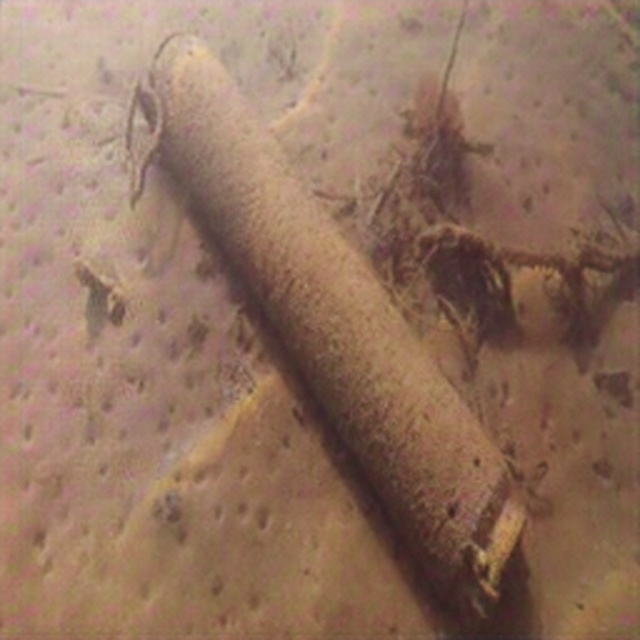mine: (144, 28, 526, 620)
